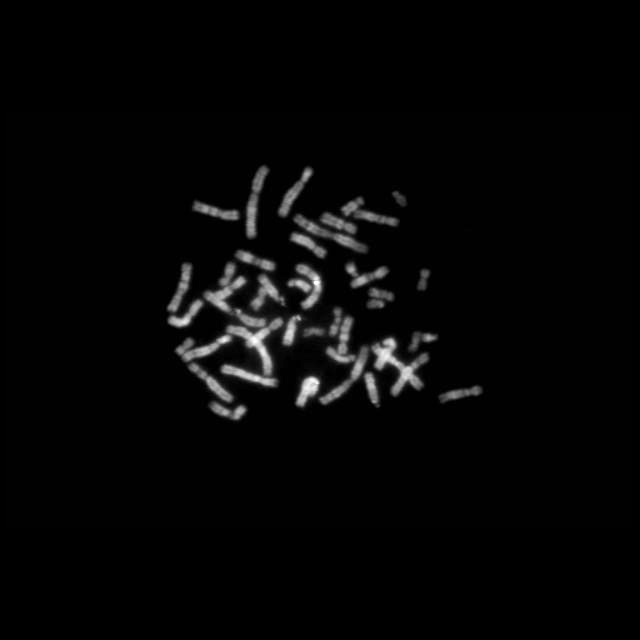chromosome: (294, 214, 368, 254), (320, 346, 368, 406), (372, 343, 423, 389), (202, 290, 266, 326), (226, 326, 272, 376), (189, 362, 233, 402), (247, 165, 269, 239), (280, 168, 312, 218), (392, 353, 428, 397), (221, 364, 277, 388), (182, 335, 232, 361), (297, 265, 323, 309), (246, 318, 284, 348), (207, 276, 246, 304), (168, 264, 190, 312), (169, 299, 203, 327), (290, 232, 326, 258), (350, 266, 388, 288), (259, 273, 285, 305), (193, 202, 239, 220), (354, 209, 400, 227), (236, 250, 274, 270), (374, 336, 396, 369), (440, 387, 482, 403), (296, 376, 318, 406), (321, 214, 357, 232), (210, 402, 246, 420), (326, 345, 356, 363), (338, 317, 352, 355), (284, 315, 300, 345), (250, 286, 270, 310), (341, 197, 363, 217), (365, 373, 379, 403), (220, 262, 234, 288), (175, 338, 193, 356), (288, 280, 312, 292), (330, 307, 340, 335), (370, 288, 392, 300), (417, 270, 429, 290), (392, 190, 406, 206), (304, 327, 324, 338), (409, 332, 419, 350), (368, 300, 384, 310), (422, 332, 438, 342), (347, 262, 358, 276)
